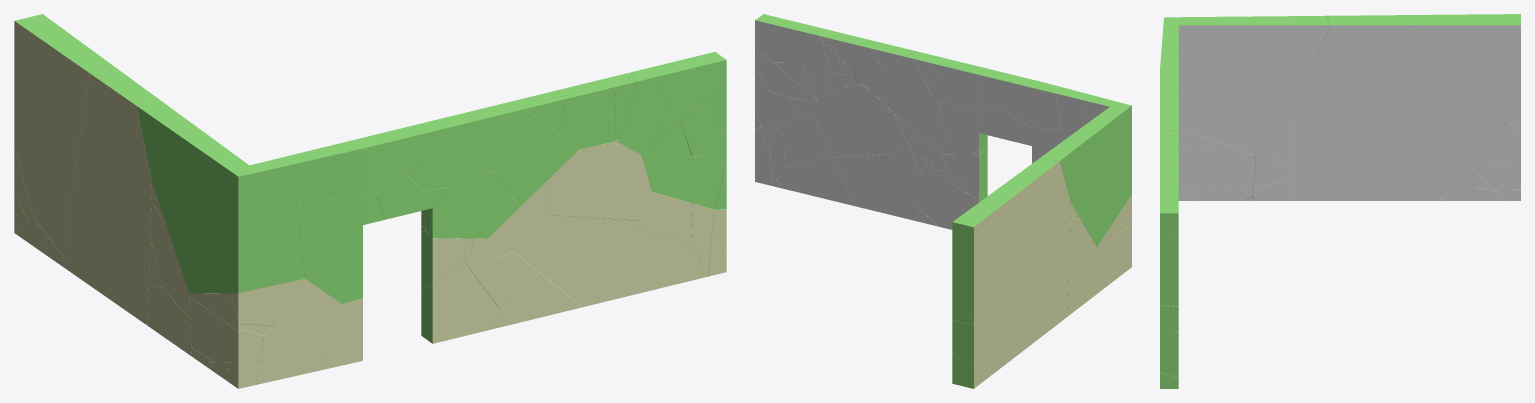
Rendered from Toilet Walls.fbx.
The picture shows the model from 3 angles, left to right: view 1: azimuth 30°, elevation 25°; view 2: azimuth 150°, elevation 25°; view 3: azimuth 270°, elevation 25°; orthographic projection. The views are drawn at different scales.
Visible parts, largest first — view 1: Toilet Walls_cell.005, Toilet Walls_cell.017, Toilet Walls_cell.014, Toilet Walls_cell.024_cell.004, Toilet Walls_cell.024_cell.005, Toilet Walls_cell.019_cell.002, Toilet Walls_cell.007_cell, Toilet Walls_cell.001_cell.004, Toilet Walls_cell.018_cell, Toilet Walls_cell.018_cell.001, Toilet Walls_cell.018_cell.002, Toilet Walls_cell.019_cell.005 (+31 smaller); view 2: Toilet Walls_cell.017, Toilet Walls_cell.014, Toilet Walls_cell.005, Toilet Walls_cell.024_cell.005, Toilet Walls_cell.024_cell, Toilet Walls_cell.019_cell.005, Toilet Walls_cell.018_cell.002, Toilet Walls_cell.003_cell.004, Toilet Walls_cell.018_cell.001, Toilet Walls_cell.001_cell.004, Toilet Walls_cell.001_cell.005, Toilet Walls_cell.018_cell.005 (+31 smaller); view 3: Toilet Walls_cell.017, Toilet Walls_cell.005, Toilet Walls_cell.014, Toilet Walls_cell.012_cell, Toilet Walls_cell.023_cell.007, Toilet Walls_cell.003_cell.004, Toilet Walls_cell.012_cell.006, Toilet Walls_cell.022_cell, Toilet Walls_cell.023_cell.004, Toilet Walls_cell.011_cell.002, Toilet Walls_cell.013_cell, Toilet Walls_cell.022_cell.002 (+11 smaller).
Part boxes in pixels (x1,y1,x2,y2): Toilet Walls_cell.005: [136, 98, 305, 293]; Toilet Walls_cell.017: [62, 63, 157, 325]; Toilet Walls_cell.014: [14, 14, 109, 255]; Toilet Walls_cell.024_cell.004: [513, 215, 638, 307]; Toilet Walls_cell.024_cell.005: [545, 144, 651, 220]; Toilet Walls_cell.019_cell.002: [300, 194, 385, 303]; Toilet Walls_cell.007_cell: [421, 263, 499, 343]; Toilet Walls_cell.001_cell.004: [606, 229, 702, 299]; Toilet Walls_cell.018_cell: [429, 171, 512, 238]; Toilet Walls_cell.018_cell.001: [414, 111, 483, 191]; Toilet Walls_cell.018_cell.002: [498, 100, 578, 205]; Toilet Walls_cell.019_cell.005: [321, 133, 405, 199]; Toilet Walls_cell.017: [1004, 158, 1070, 360]; Toilet Walls_cell.014: [952, 184, 1026, 356]; Toilet Walls_cell.005: [1040, 95, 1131, 246]; Toilet Walls_cell.024_cell.005: [814, 84, 907, 157]; Toilet Walls_cell.024_cell: [848, 148, 923, 217]; Toilet Walls_cell.019_cell.005: [997, 76, 1061, 130]; Toilet Walls_cell.018_cell.002: [866, 53, 931, 122]; Toilet Walls_cell.003_cell.004: [755, 14, 818, 62]; Toilet Walls_cell.018_cell.001: [933, 61, 998, 111]; Toilet Walls_cell.001_cell.004: [779, 157, 846, 199]; Toilet Walls_cell.001_cell.005: [783, 117, 833, 167]; Toilet Walls_cell.018_cell.005: [939, 102, 986, 153]; Toilet Walls_cell.017: [1288, 15, 1449, 200]; Toilet Walls_cell.005: [1162, 15, 1330, 155]; Toilet Walls_cell.014: [1401, 14, 1520, 181]; Toilet Walls_cell.012_cell: [1178, 147, 1255, 188]; Toilet Walls_cell.023_cell.007: [1482, 121, 1520, 168]; Toilet Walls_cell.003_cell.004: [1160, 181, 1178, 241]; Toilet Walls_cell.012_cell.006: [1178, 187, 1253, 200]; Toilet Walls_cell.022_cell: [1253, 156, 1291, 188]; Toilet Walls_cell.023_cell.004: [1476, 164, 1517, 194]; Toilet Walls_cell.011_cell.002: [1160, 331, 1178, 377]; Toilet Walls_cell.013_cell: [1160, 268, 1178, 306]; Toilet Walls_cell.022_cell.002: [1252, 179, 1292, 200].
Size of the model in its own units: 740 by 304 by 566.
